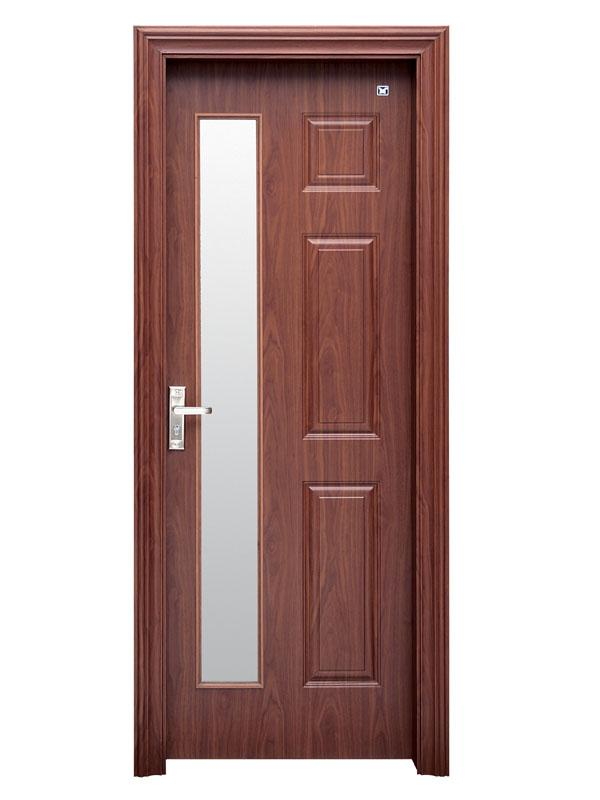door: (152, 47, 434, 759)
